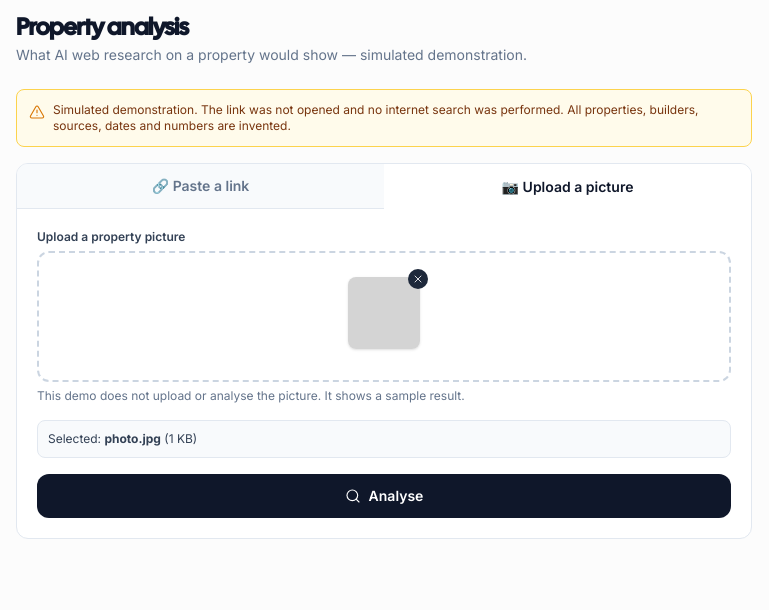
PropertyAnalysisPage – demo mode › picture tab: shows picture step in progress log
Earlier steps of the test are not shown.
What coordinates should you click on to do the following:
click the button "Analyse"
I would click on:
 (384, 496)
Its box is [37, 474, 731, 518].
Wait 100 ms
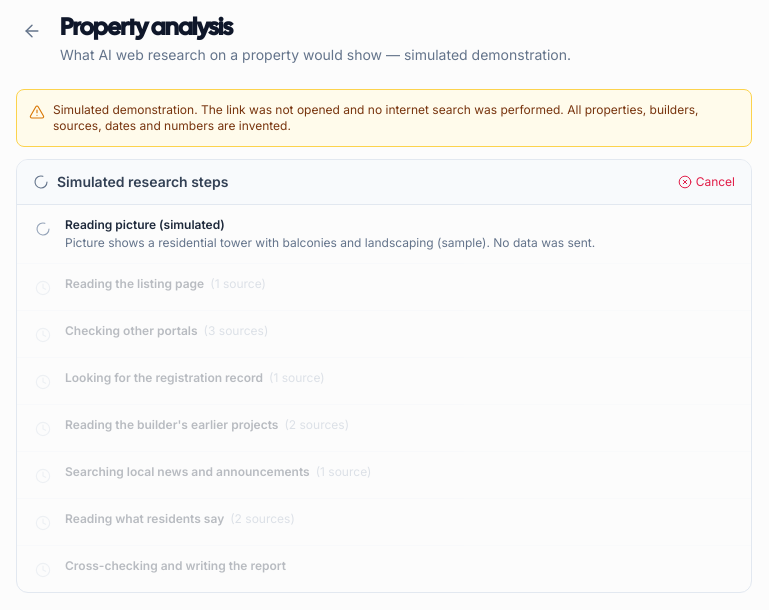
Result: the text "Reading picture (simulated)" is shown at [65, 217, 225, 232]
